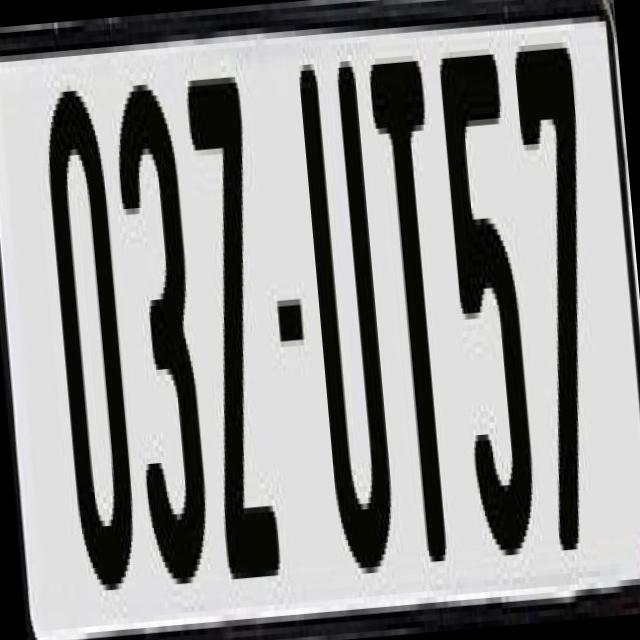0: (36, 83, 136, 604)
3: (110, 64, 219, 597)
5: (438, 46, 544, 552)
7: (512, 36, 614, 544)
T: (364, 54, 466, 563)
U: (291, 42, 400, 576)
Z: (181, 58, 285, 585)
